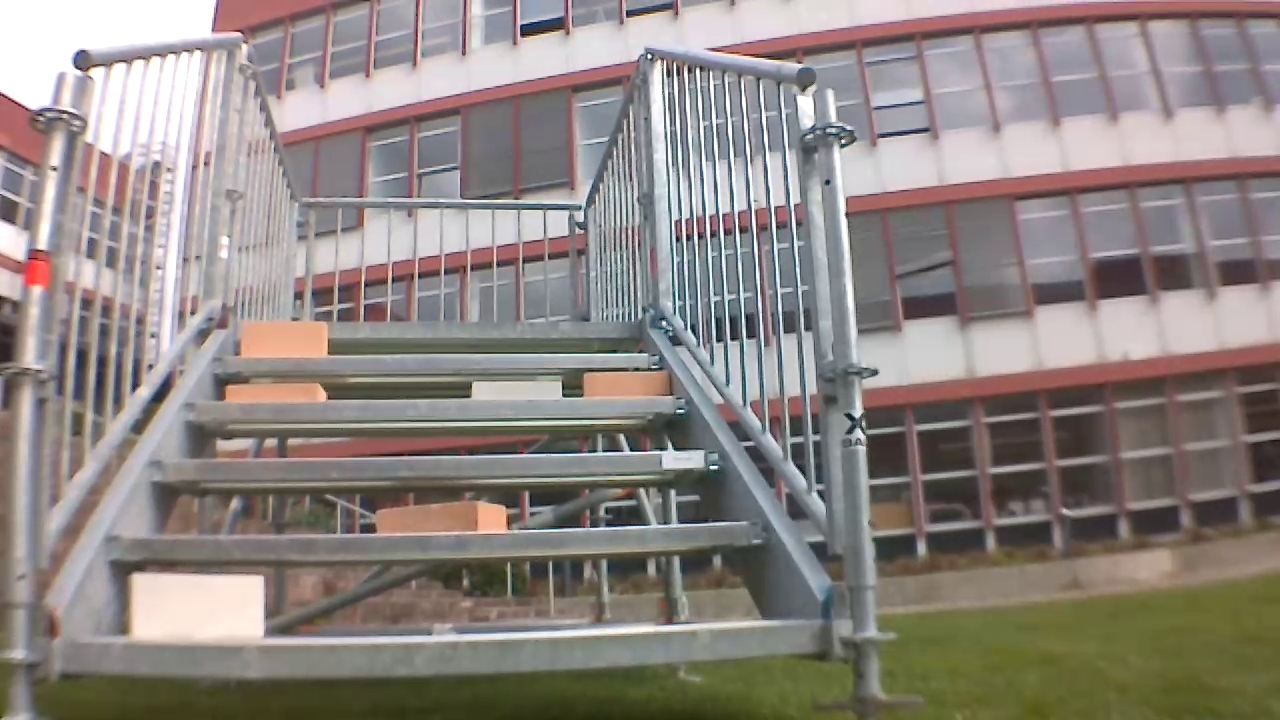brick: (129, 570, 266, 640), (374, 500, 508, 535), (236, 320, 333, 356), (582, 369, 671, 400), (224, 382, 329, 406), (471, 377, 564, 396)
edge: (53, 622, 838, 678), (103, 519, 774, 565), (147, 449, 725, 483), (185, 394, 690, 422), (206, 353, 662, 376), (229, 319, 644, 339)
stairs: (9, 31, 881, 708)
steps: (40, 314, 830, 683)
